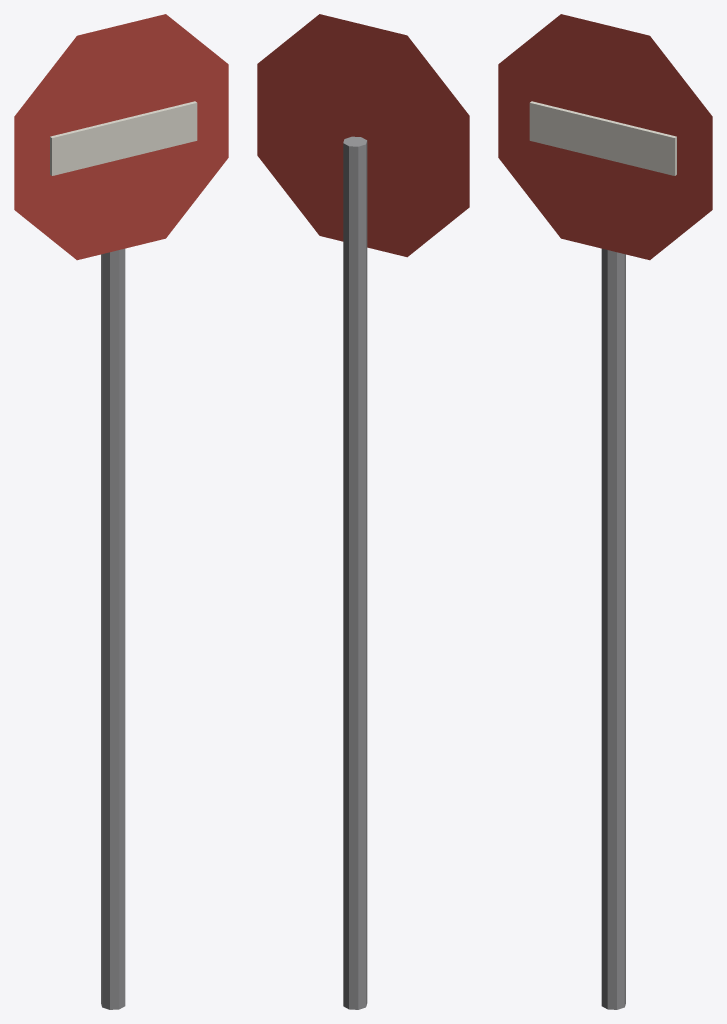
File: stop_sign.glb
The picture shows the model from 3 angles, left to right: view 1: azimuth 30°, elevation 25°; view 2: azimuth 150°, elevation 25°; view 3: azimuth 330°, elevation 25°; orthographic projection.
Visible parts, largest first — view 1: StopSign; view 2: StopSign; view 3: StopSign.
Part boxes in pixels (bbox=[...]): StopSign: bbox=[14, 14, 228, 1009]; StopSign: bbox=[257, 14, 469, 1009]; StopSign: bbox=[498, 14, 712, 1009].
Bounding box in the file's own units: 0.5913 × 2.6 × 0.085.
